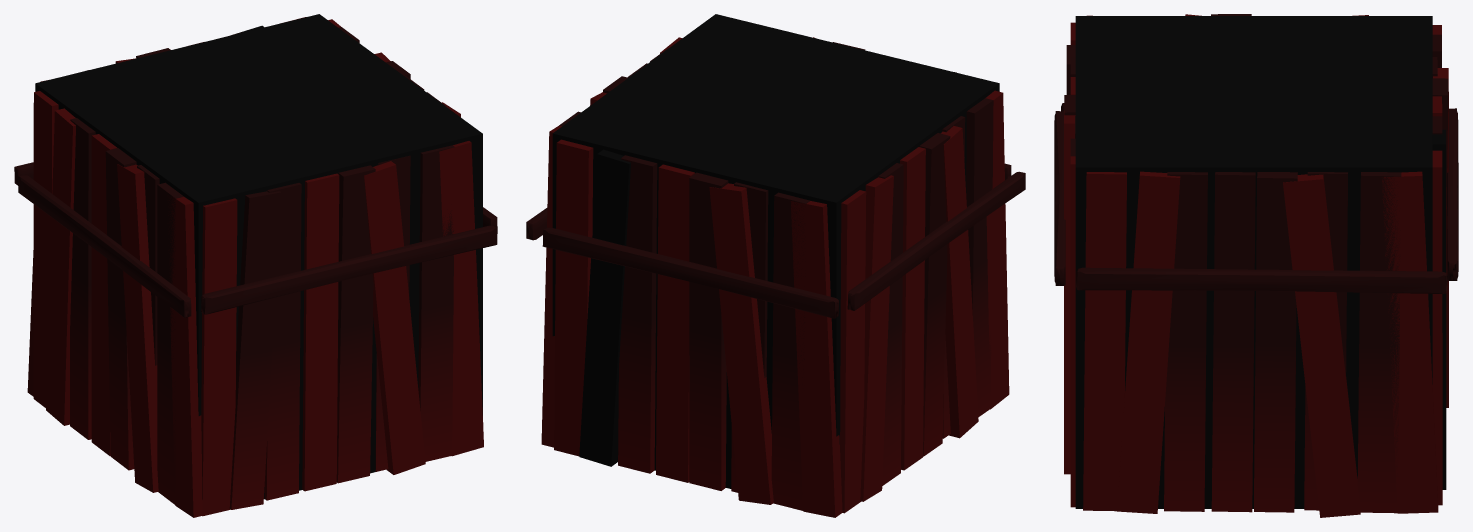
File: SM_WoodWall.fbx
The picture shows the model from 3 angles, left to right: view 1: azimuth 30°, elevation 25°; view 2: azimuth 150°, elevation 25°; view 3: azimuth 270°, elevation 25°; orthographic projection. The views are drawn at different scales.
Parts seen in each view (by area): view 1: Wood; view 2: Wood; view 3: Wood.
Part boxes in pixels (x1,y1,x2,y2): Wood: [14, 14, 497, 517]; Wood: [526, 14, 1025, 517]; Wood: [1054, 14, 1458, 517].
Size of the model in its own units: 42.43 by 39.08 by 41.68.
